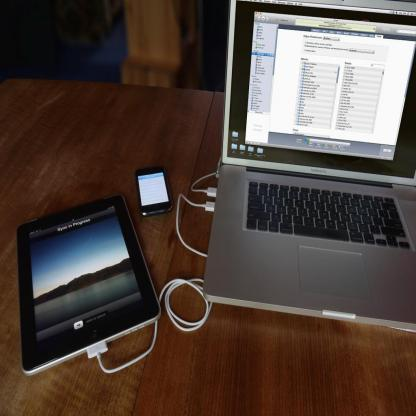board: (202, 0, 416, 330)
